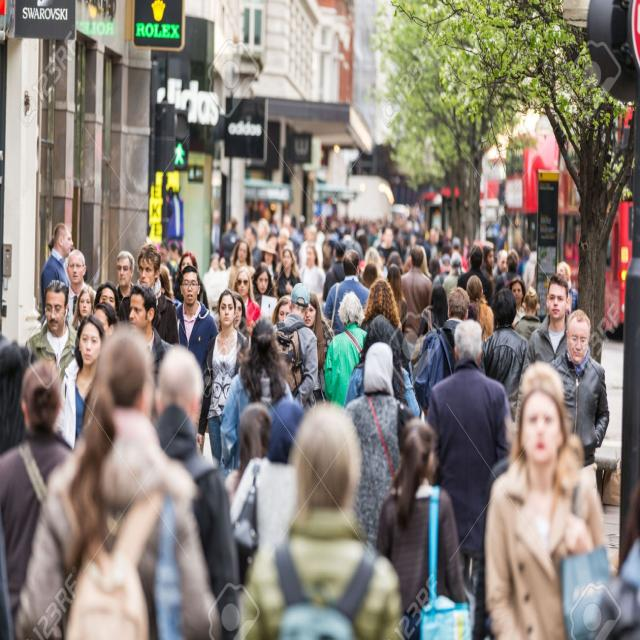body: (10, 317, 223, 639), (232, 393, 408, 639), (481, 374, 618, 639), (143, 343, 241, 638), (426, 318, 514, 602), (0, 354, 78, 640), (374, 416, 469, 640), (222, 396, 310, 576), (343, 341, 417, 549), (554, 466, 640, 640), (546, 307, 610, 501), (220, 316, 296, 468), (514, 272, 572, 439), (173, 262, 220, 458), (422, 285, 486, 422), (203, 289, 250, 471), (343, 313, 421, 420), (316, 211, 424, 288), (470, 449, 512, 639), (124, 284, 177, 428), (478, 287, 530, 425), (424, 225, 537, 288), (55, 316, 106, 454), (24, 278, 82, 392), (117, 243, 180, 345), (272, 281, 320, 412), (322, 289, 369, 411), (0, 329, 41, 455), (228, 215, 317, 273), (324, 249, 372, 334), (400, 245, 434, 358), (40, 222, 76, 320), (202, 206, 229, 333), (304, 291, 334, 404), (360, 278, 406, 346), (159, 190, 184, 310), (62, 248, 98, 326), (456, 245, 493, 306), (232, 266, 262, 336), (298, 244, 327, 313), (520, 358, 566, 398), (416, 284, 449, 338), (466, 273, 494, 336), (225, 239, 257, 294), (385, 262, 408, 337), (322, 240, 348, 305), (272, 248, 302, 302), (514, 286, 542, 342), (554, 259, 581, 313), (504, 274, 526, 331), (70, 284, 96, 331), (115, 249, 137, 303), (249, 263, 275, 308), (93, 281, 121, 321), (93, 298, 118, 338), (566, 433, 586, 477), (232, 291, 249, 339), (272, 294, 292, 328)
